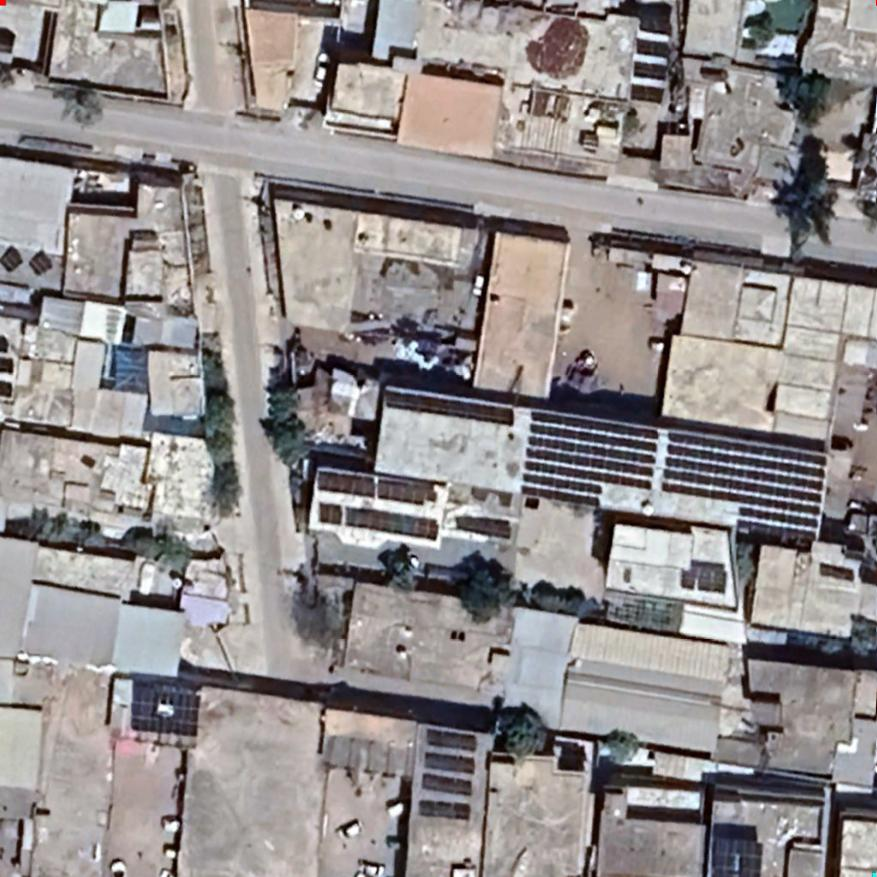Solarpanel: (654, 427, 832, 545), (517, 403, 664, 522), (376, 386, 523, 436), (412, 724, 479, 824), (316, 500, 442, 542), (128, 676, 204, 740), (315, 467, 434, 505), (706, 834, 766, 876), (450, 510, 515, 544), (674, 566, 730, 595), (627, 82, 666, 107), (631, 59, 671, 83), (635, 36, 672, 59)
